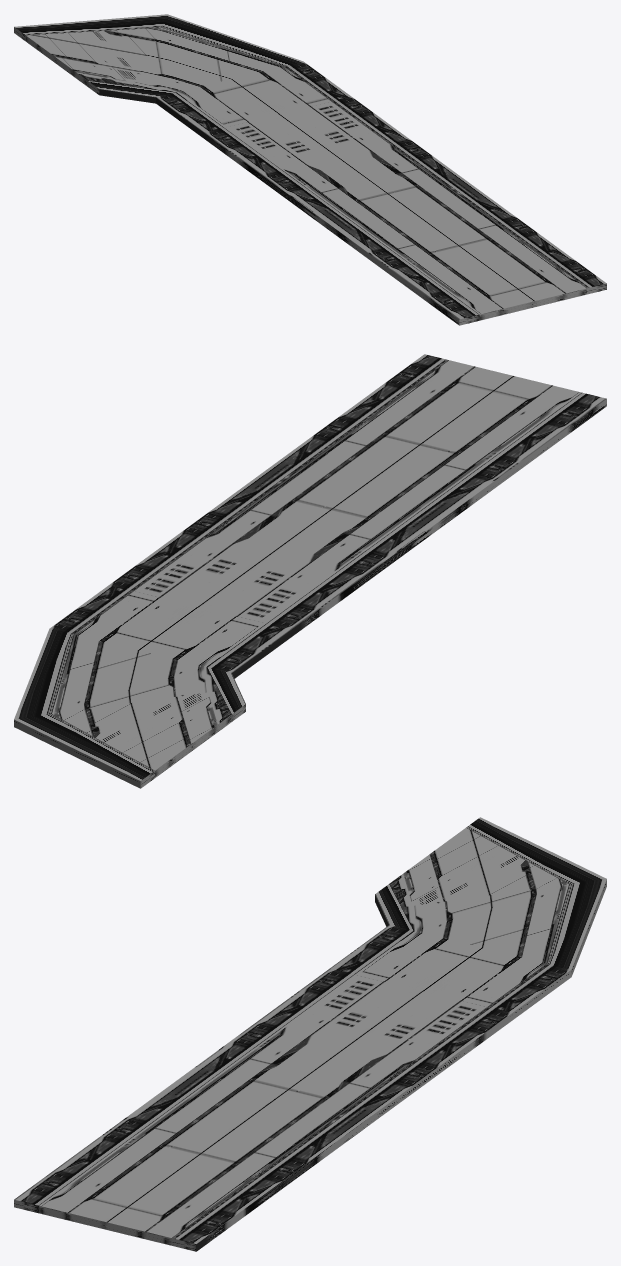
The model's file is leftRoad.fbx.
3 renders of one model, top to bottom at view 1: azimuth 30°, elevation 25°; view 2: azimuth 150°, elevation 25°; view 3: azimuth 330°, elevation 25°, orthographic. The views are drawn at different scales.
Parts seen in each view (by area): view 1: Cube; view 2: Cube; view 3: Cube.
Part boxes in pixels (x1=…): Cube: x1=14, y1=14, x2=606, y2=325; Cube: x1=14, y1=354, x2=606, y2=788; Cube: x1=14, y1=817, x2=606, y2=1251.
Bounding box in the file's own units: 1231 × 40 × 4827.
